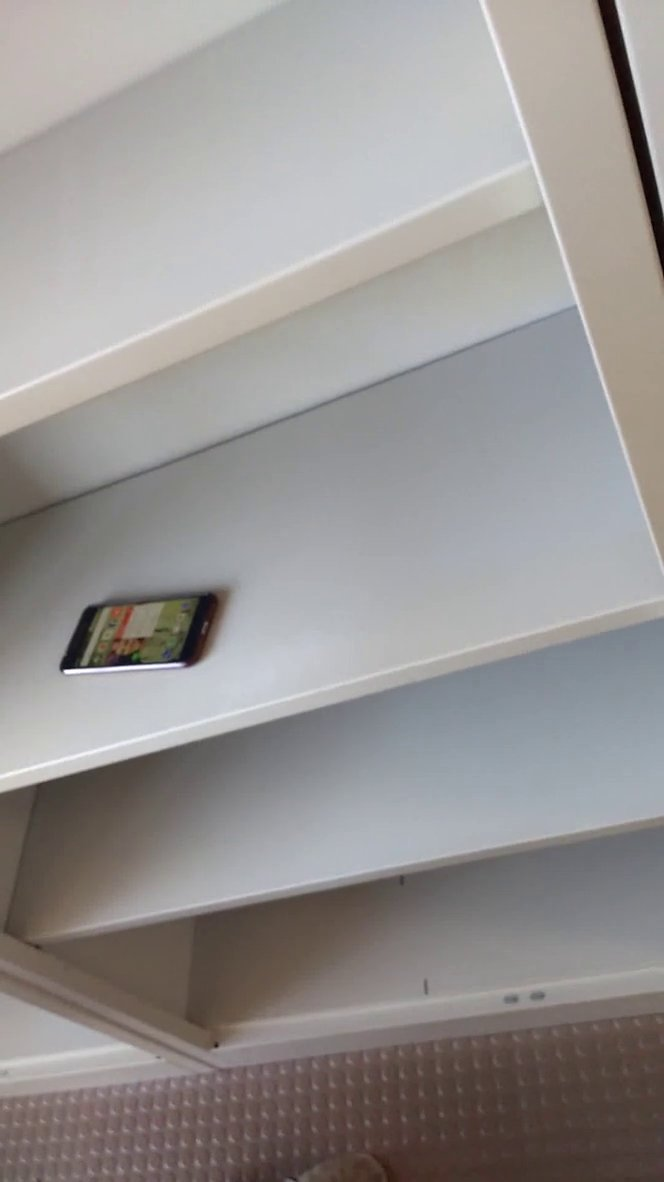phone: (53, 581, 231, 680)
